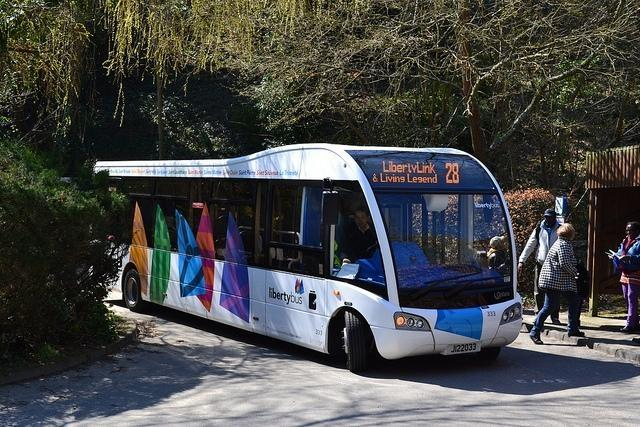bus: (95, 143, 523, 371)
